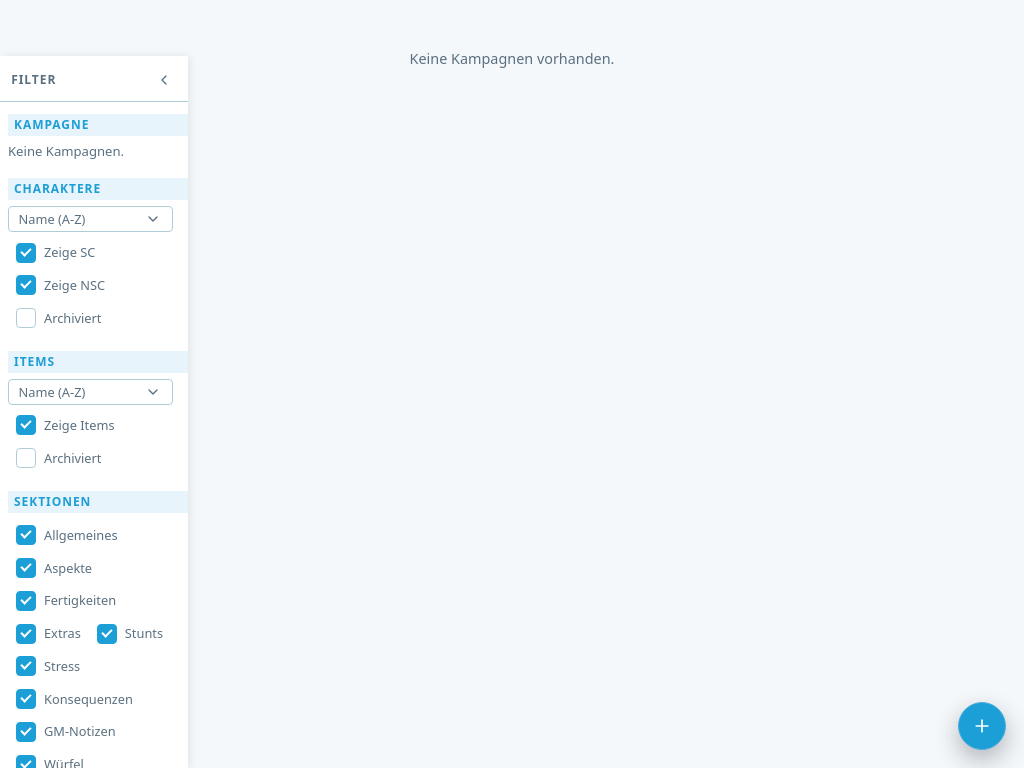
DashboardView floating action menu › opens the cheat sheet dialog from FAB action and closes the menu
Click the button named "Schnellaktionen öffnen": (982, 726) [958,702,1006,750]
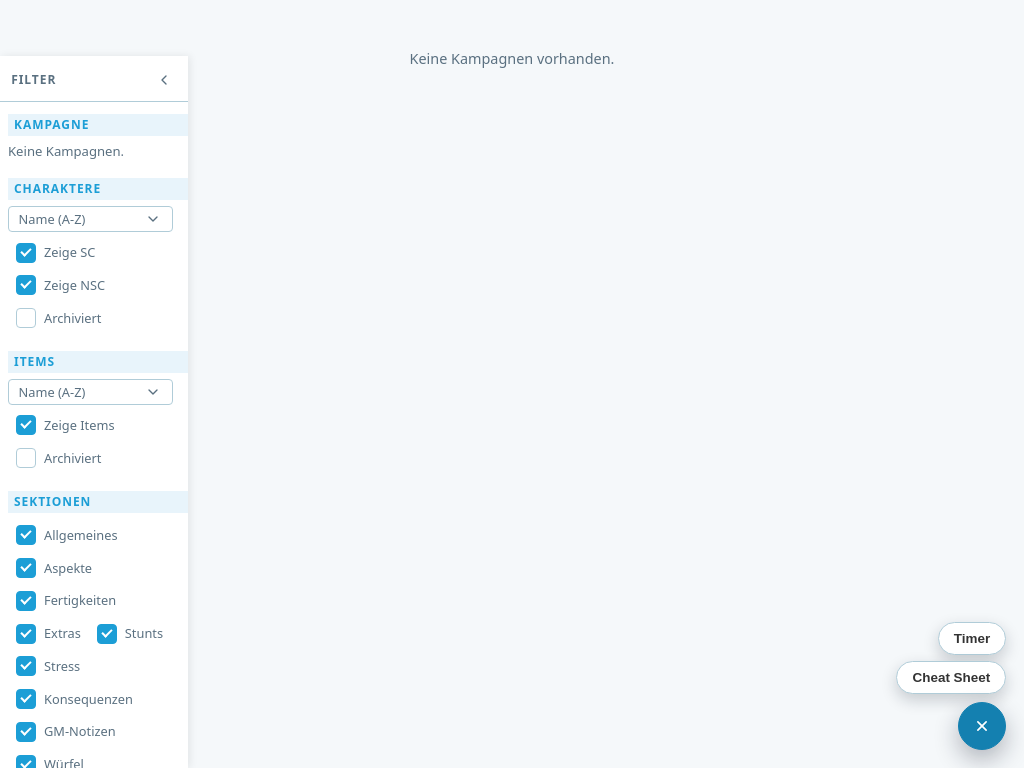
Click the button with aria-label "Cheat Sheet öffnen": (951, 678) [896,661,1006,694]
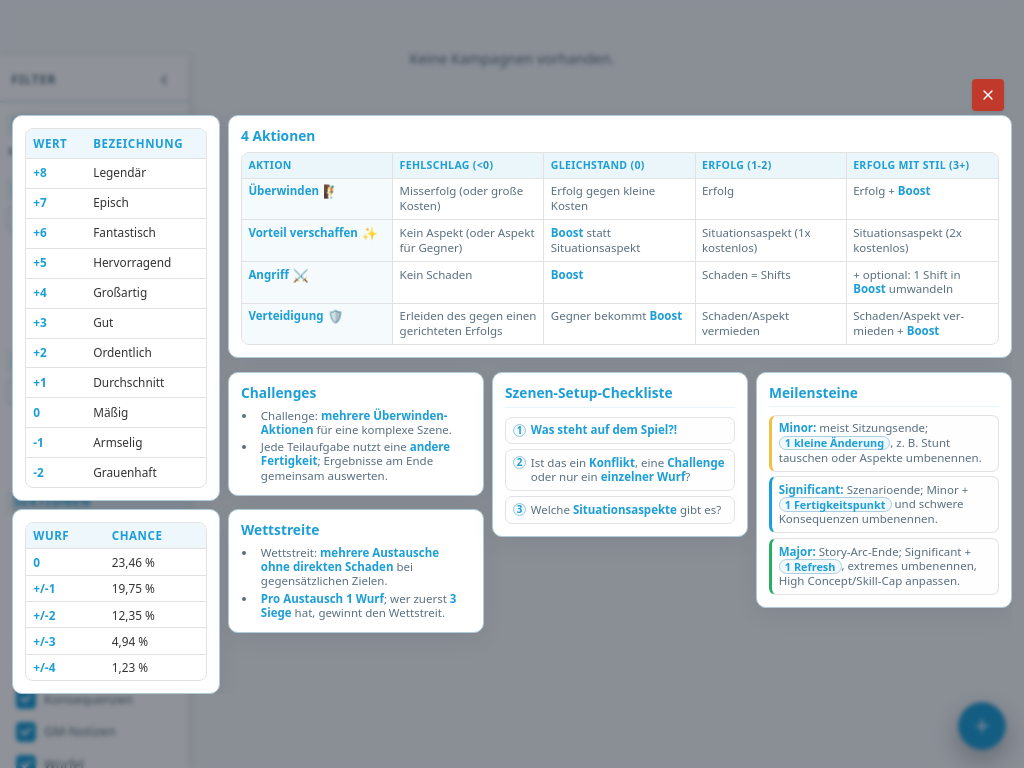
Expected: the button named "Schnellaktionen öffnen" is collapsed, [958,702,1006,750]
Expected: the dialog named "Cheat Sheet Dialog" is shown
